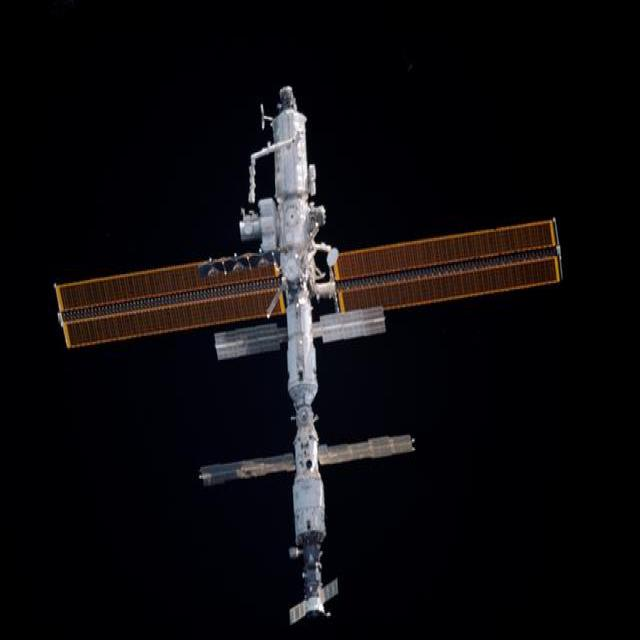satellite: (56, 87, 562, 622)
